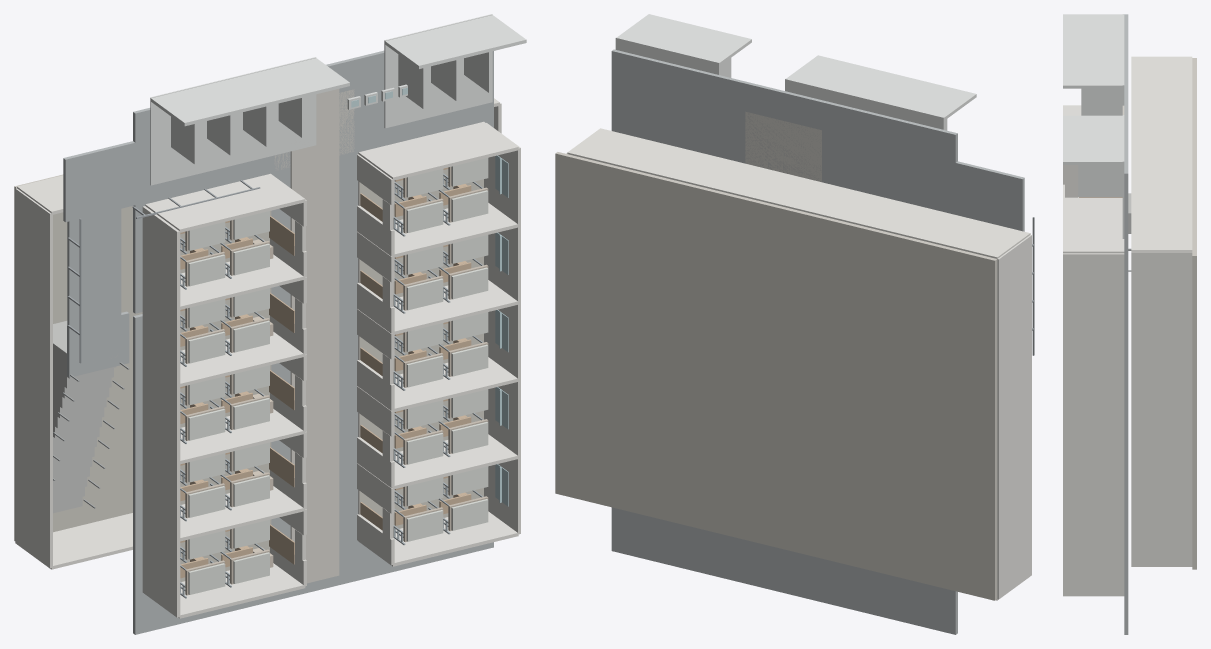
The model's file is dorm.glb.
3 views of the same model, side by side, from view 1: azimuth 30°, elevation 25°; view 2: azimuth 150°, elevation 25°; view 3: azimuth 270°, elevation 25° (orthographic). The views are drawn at different scales.
Visible parts, largest first — view 1: 二樓樓板_右側, 二樓走廊, 一樓外牆, 一樓地板, 二樓_樓梯外側通道, 浴室地板, 浴室北牆, 二樓_大廳連通橋, 二樓_右5房_後隔牆, 二樓_左5房_後隔牆, 廁所北牆, 廁所地板 (+91 smaller); view 2: 一樓地板, 二樓樓板_右側, 一樓後牆, 一樓外牆, 二樓_大廳連通橋, 二樓樓板_左後, 浴室北牆, 二樓樓板_左前, 二樓_大廳開放區, 廁所北牆, 二樓_轉角平台, 浴室地板 (+1 smaller); view 3: 一樓外牆_1, 一樓後牆, 浴室北牆, 二樓_右5房_外牆, 二樓_右2房_外牆, 二樓_右4房_外牆, 二樓_右3房_外牆, 二樓_右1房_外牆, 二樓_右5房_後隔牆, 廁所北牆, 二樓樓板_右側, 一樓地板 (+6 smaller).
Boxes of the visible parts, x1,y1,x2,y2 form: 二樓樓板_右側: (227, 50, 493, 612); 二樓走廊: (290, 89, 339, 583); 一樓外牆: (15, 188, 52, 568); 一樓地板: (14, 174, 142, 540); 二樓_樓梯外側通道: (67, 177, 121, 364); 浴室地板: (150, 57, 316, 185); 浴室北牆: (150, 58, 349, 126); 二樓_大廳連通橋: (91, 139, 290, 215); 二樓_右5房_後隔牆: (358, 121, 518, 180); 二樓_左5房_後隔牆: (145, 173, 305, 232); 廁所北牆: (384, 15, 526, 68); 廁所地板: (384, 14, 492, 128); 一樓地板: (555, 152, 997, 600); 二樓樓板_右側: (611, 49, 868, 608); 一樓後牆: (567, 128, 1030, 258); 一樓外牆: (997, 235, 1031, 599); 二樓_大廳連通橋: (782, 121, 997, 224); 二樓樓板_左後: (848, 107, 957, 214); 浴室北牆: (785, 55, 976, 121); 二樓樓板_左前: (848, 565, 957, 634); 二樓_大廳開放區: (745, 111, 821, 182); 廁所北牆: (615, 14, 751, 66); 二樓_轉角平台: (965, 165, 1024, 231); 浴室地板: (785, 78, 944, 129); 一樓外牆_1: (1131, 251, 1192, 565); 一樓後牆: (1131, 56, 1192, 251); 浴室北牆: (1063, 14, 1124, 88); 二樓_右5房_外牆: (1063, 253, 1124, 322); 二樓_右2房_外牆: (1063, 459, 1124, 527); 二樓_右4房_外牆: (1063, 322, 1124, 390); 二樓_右3房_外牆: (1063, 391, 1124, 459); 二樓_右1房_外牆: (1063, 527, 1124, 595); 二樓_右5房_後隔牆: (1063, 197, 1124, 253); 廁所北牆: (1063, 115, 1124, 164); 二樓樓板_右側: (1124, 59, 1128, 634); 一樓地板: (1192, 58, 1196, 569).
Bounding box in the file's own units: 23.08 × 25.6 × 6.57.
